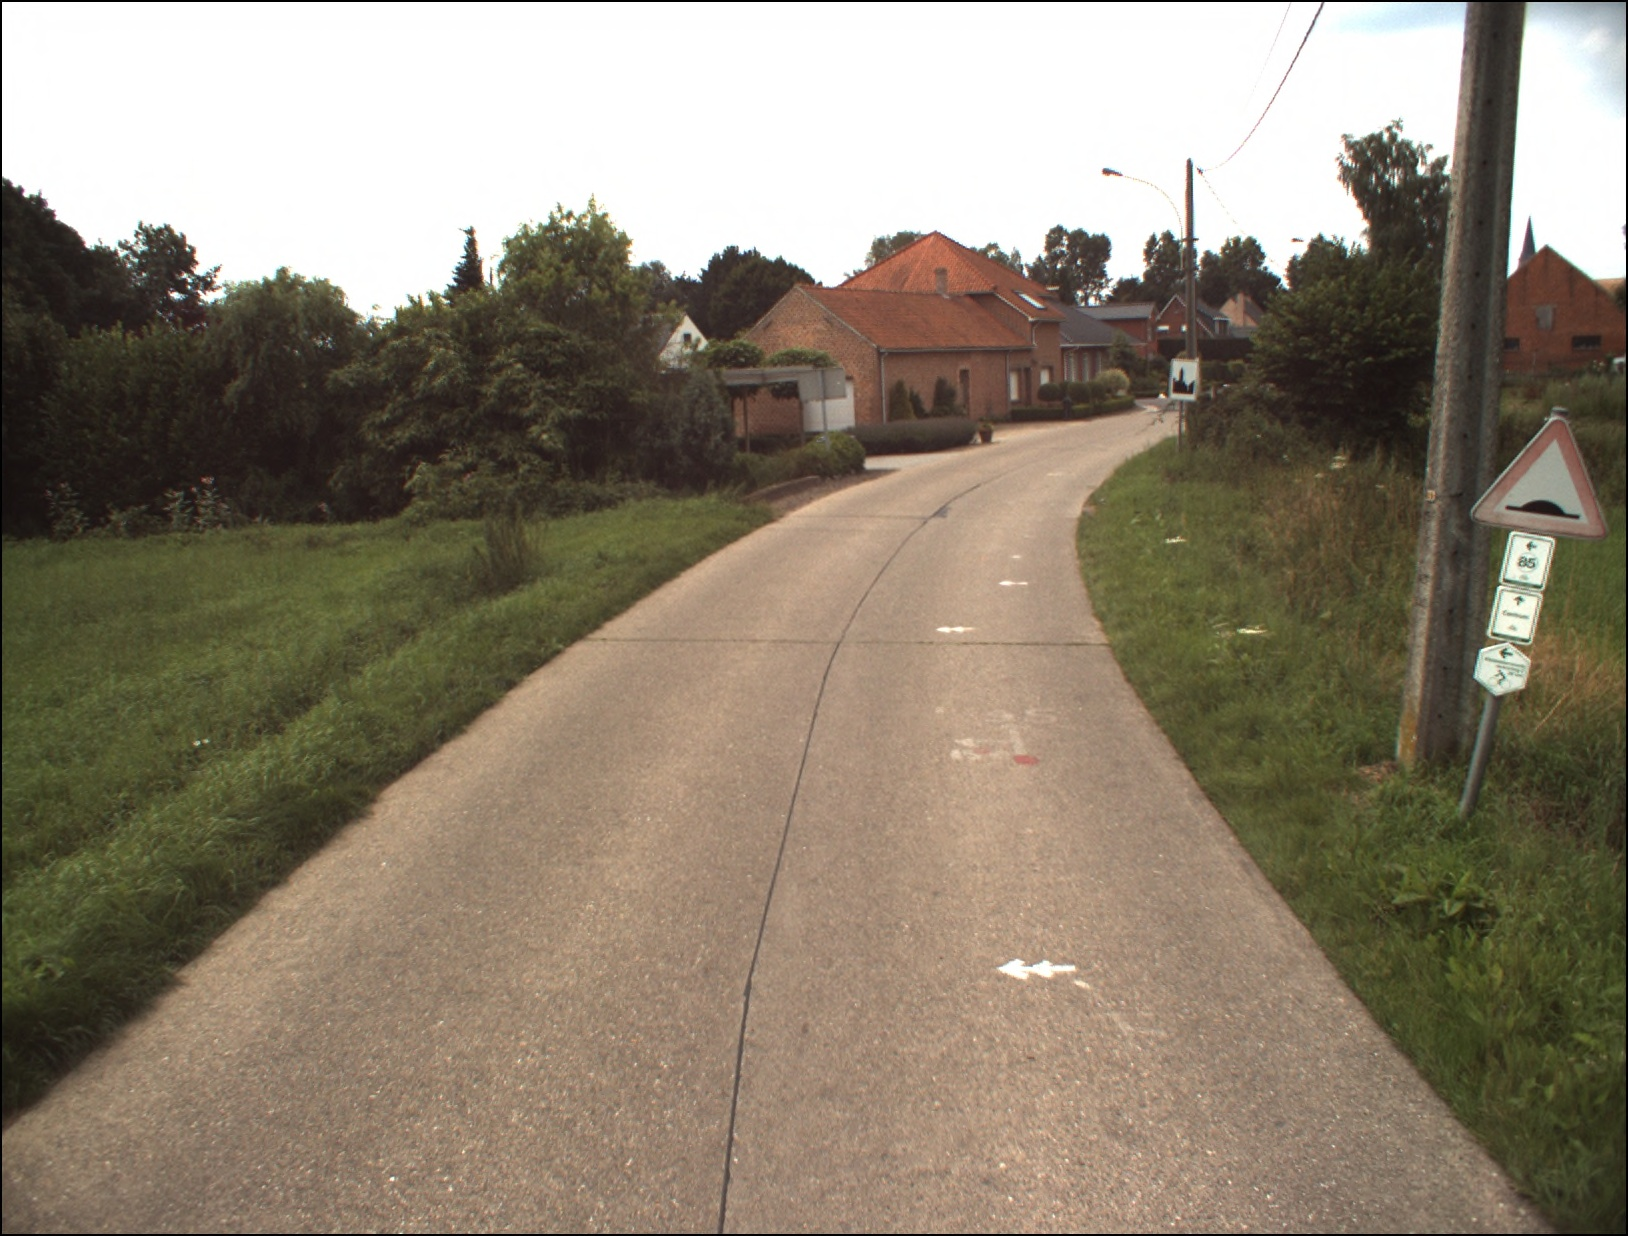speedbump: (1470, 413, 1612, 543)
